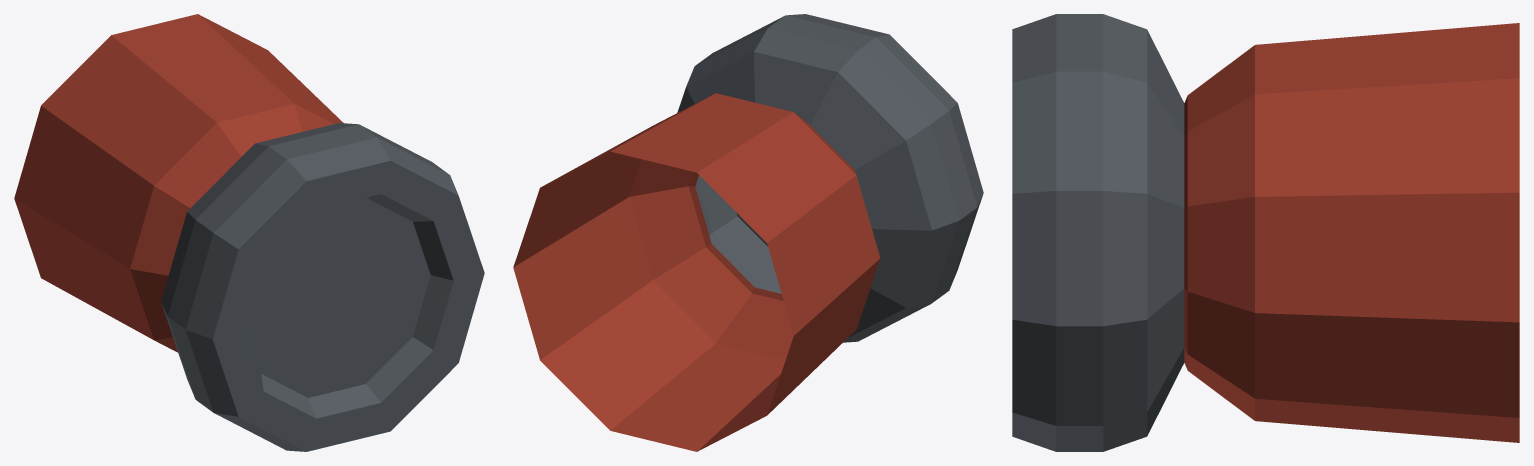
Rendered from Personal_Vehicle_01_Head_Light_Small_Red.fbx.
The picture shows the model from 3 angles, left to right: view 1: azimuth 30°, elevation 25°; view 2: azimuth 150°, elevation 25°; view 3: azimuth 270°, elevation 25°; orthographic projection. The views are drawn at different scales.
Parts seen in each view (by area): view 1: Personal_Vehicle_01_Head_Light_Small_Red; view 2: Personal_Vehicle_01_Head_Light_Small_Red; view 3: Personal_Vehicle_01_Head_Light_Small_Red.
Part boxes in pixels (x1,y1,x2,y2): Personal_Vehicle_01_Head_Light_Small_Red: (14,14,484,451); Personal_Vehicle_01_Head_Light_Small_Red: (513,14,983,451); Personal_Vehicle_01_Head_Light_Small_Red: (1012,14,1519,451).
Size of the model in its own units: 14.07 by 13.38 by 16.18.
Materials: 2 (2 with a texture image).
